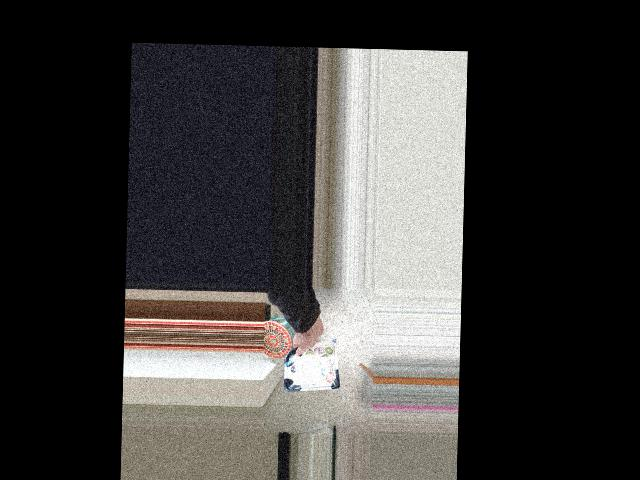cheese: (282, 319, 339, 381)
